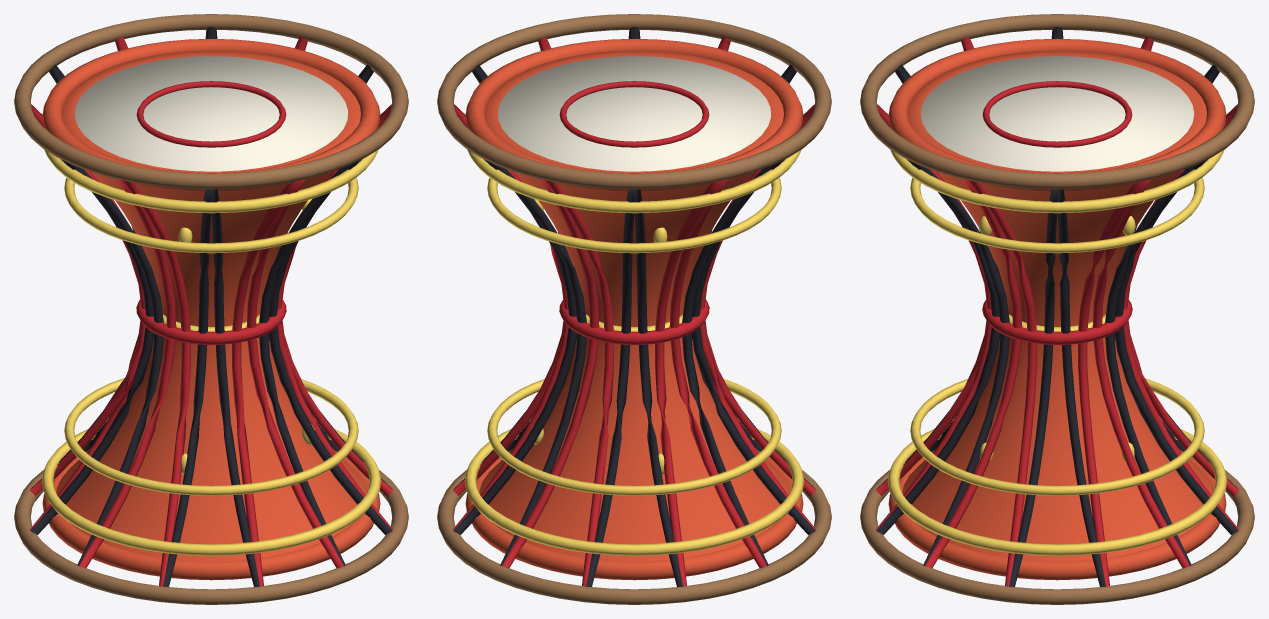
Rendered from gakki_tsuzumi.glb.
The picture shows the model from 3 angles, left to right: view 1: azimuth 30°, elevation 25°; view 2: azimuth 150°, elevation 25°; view 3: azimuth 270°, elevation 25°; orthographic projection.
Visible parts, largest first — view 1: Drum_Body_Outer, Drumhead_Top, Head_Hoop_Top, Head_Hoop_Bottom, Rim_Lip_Top, Rim_Lip_Bottom, Metal_Band_Bottom, Metal_Band_Lower_Bottom, Metal_Band_Top, Metal_Band_Lower_Top, Tension_Cord_Return_08, Tension_Cord_07 (+14 smaller); view 2: Drum_Body_Outer, Drumhead_Top, Head_Hoop_Top, Head_Hoop_Bottom, Rim_Lip_Top, Rim_Lip_Bottom, Metal_Band_Bottom, Metal_Band_Lower_Bottom, Metal_Band_Top, Metal_Band_Lower_Top, Tension_Cord_Return_04, Tension_Cord_03 (+14 smaller); view 3: Drum_Body_Outer, Drumhead_Top, Head_Hoop_Top, Head_Hoop_Bottom, Rim_Lip_Top, Rim_Lip_Bottom, Metal_Band_Bottom, Metal_Band_Lower_Bottom, Metal_Band_Top, Metal_Band_Lower_Top, Tension_Cord_11, Tension_Cord_Return_00 (+14 smaller).
Part boxes in pixels (box(x1,y1,x2,y2)): Drum_Body_Outer: box(56, 50, 366, 561); Drumhead_Top: box(75, 56, 347, 171); Head_Hoop_Top: box(14, 14, 408, 189); Head_Hoop_Bottom: box(14, 470, 408, 604); Rim_Lip_Top: box(42, 38, 380, 191); Rim_Lip_Bottom: box(42, 451, 380, 580); Metal_Band_Bottom: box(41, 422, 381, 555); Metal_Band_Lower_Bottom: box(64, 378, 358, 495); Metal_Band_Top: box(44, 149, 378, 213); Metal_Band_Lower_Top: box(64, 178, 358, 253); Tension_Cord_Return_08: box(232, 180, 302, 586); Tension_Cord_07: box(120, 180, 190, 586); Drum_Body_Outer: box(479, 50, 789, 561); Drumhead_Top: box(498, 56, 770, 171); Head_Hoop_Top: box(437, 14, 831, 189); Head_Hoop_Bottom: box(437, 470, 831, 604); Rim_Lip_Top: box(465, 38, 803, 191); Rim_Lip_Bottom: box(465, 451, 803, 580); Metal_Band_Bottom: box(464, 422, 804, 555); Metal_Band_Lower_Bottom: box(487, 378, 781, 495); Metal_Band_Top: box(467, 149, 801, 213); Metal_Band_Lower_Top: box(487, 178, 781, 253); Tension_Cord_Return_04: box(655, 180, 725, 586); Tension_Cord_03: box(543, 180, 613, 586); Drum_Body_Outer: box(902, 50, 1212, 561); Drumhead_Top: box(920, 56, 1194, 171); Head_Hoop_Top: box(860, 14, 1254, 189); Head_Hoop_Bottom: box(860, 470, 1254, 604); Rim_Lip_Top: box(888, 38, 1226, 191); Rim_Lip_Bottom: box(888, 450, 1226, 580); Metal_Band_Bottom: box(887, 422, 1227, 555); Metal_Band_Lower_Bottom: box(910, 378, 1204, 495); Metal_Band_Top: box(890, 149, 1224, 213); Metal_Band_Lower_Top: box(910, 178, 1204, 253); Tension_Cord_11: box(966, 180, 1036, 586); Tension_Cord_Return_00: box(1078, 180, 1148, 586).
Bounding box in the file's own units: 1.62 × 1.95 × 1.62.
